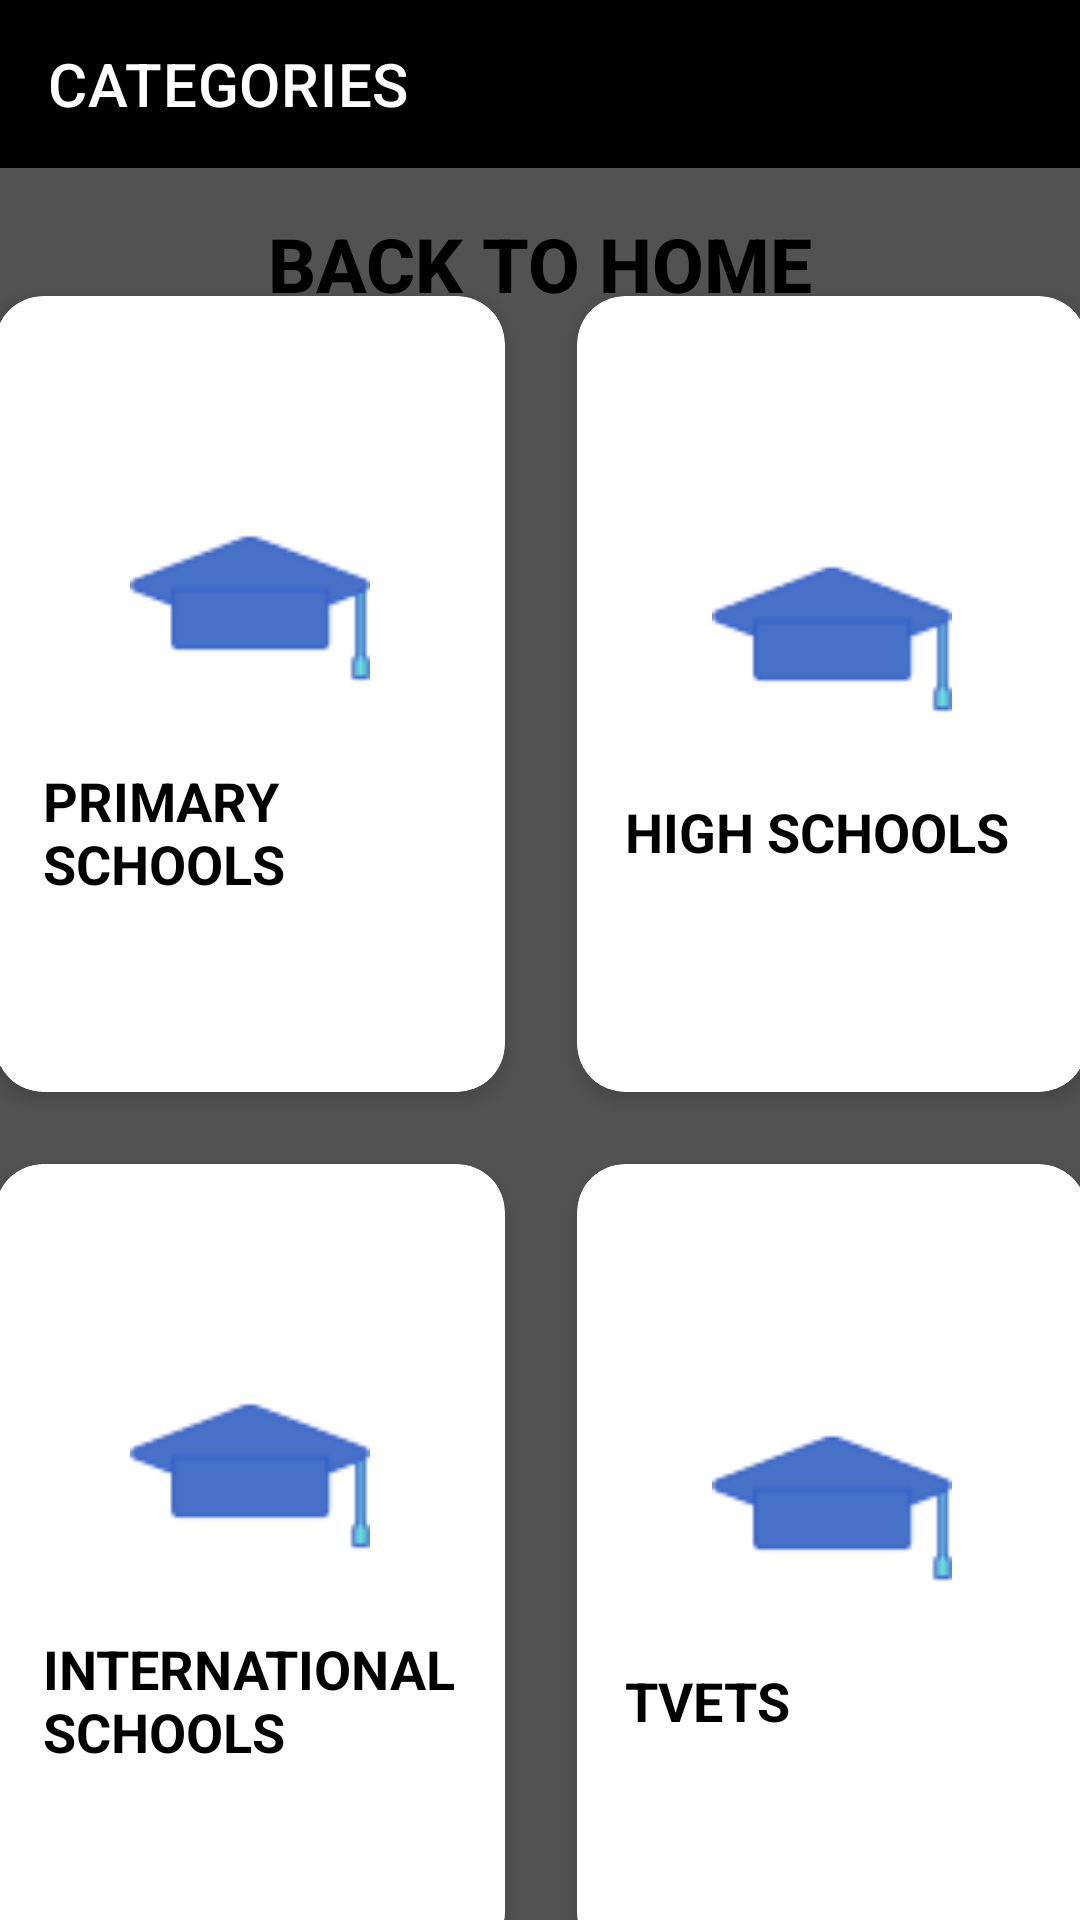

Point at icon controls on the screen. Image size 1080x1920, points as [x,y].
educatio: [250,608], [832,639], [250,1476], [832,1508]
